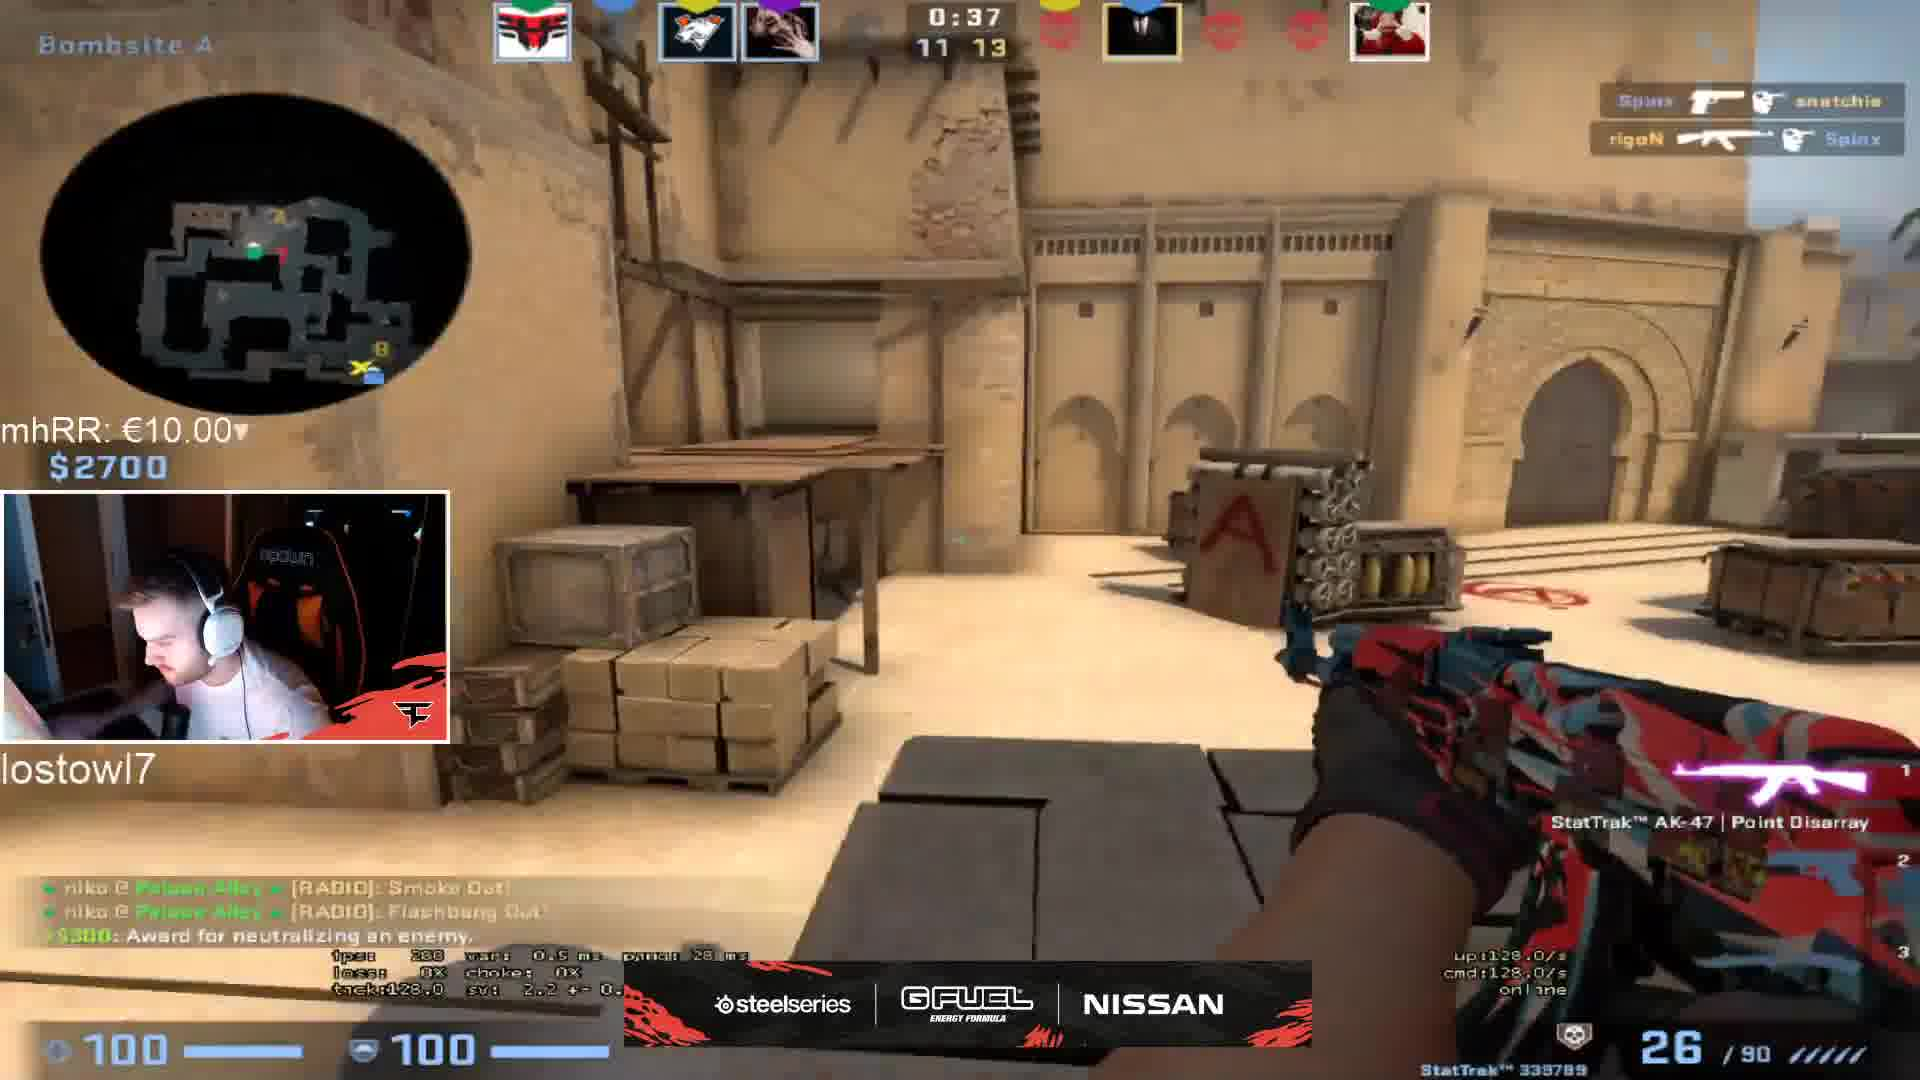enemy: (811, 547, 858, 607)
